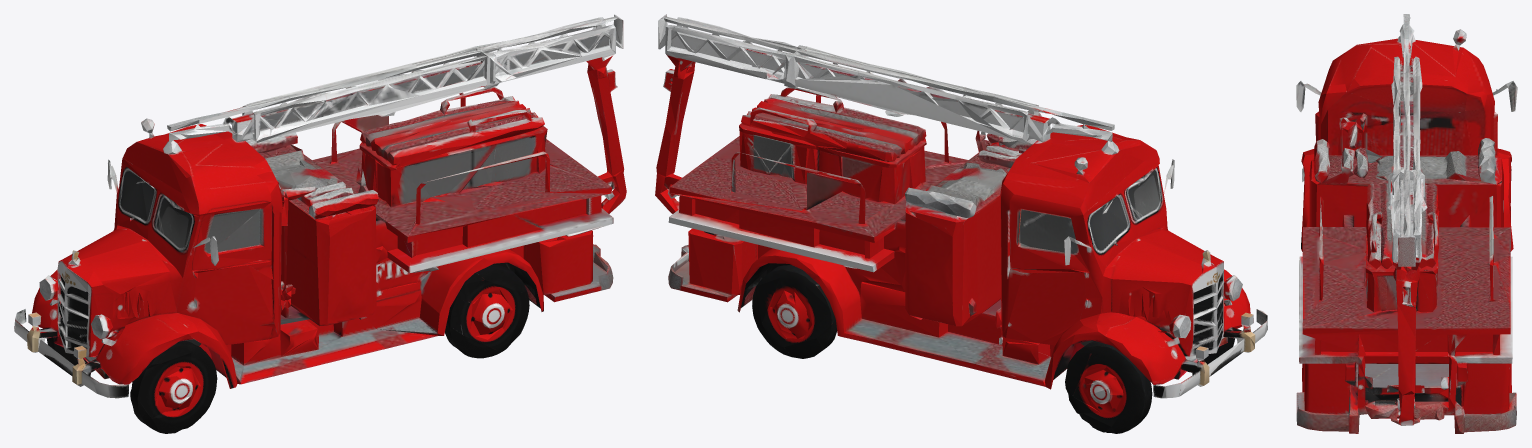
File: engine.glb
The picture shows the model from 3 angles, left to right: view 1: azimuth 30°, elevation 25°; view 2: azimuth 150°, elevation 25°; view 3: azimuth 270°, elevation 25°; orthographic projection.
Bounding box in the file's own units: 1.9 × 0.8421 × 0.6282.
1 material, 1 textured.
